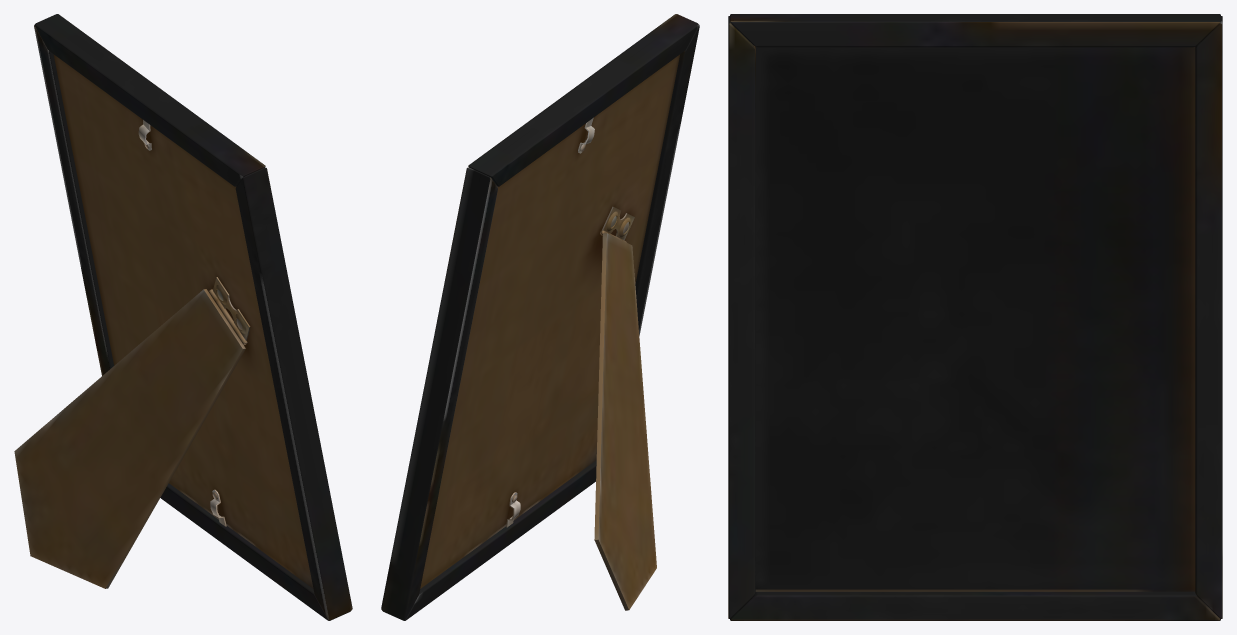
File: standing_picture_frame_01.glb
The picture shows the model from 3 angles, left to right: view 1: azimuth 30°, elevation 25°; view 2: azimuth 150°, elevation 25°; view 3: azimuth 270°, elevation 25°; orthographic projection. The views are drawn at different scales.
Visible parts, largest first — view 1: standing_picture_frame_01; view 2: standing_picture_frame_01; view 3: standing_picture_frame_01.
Boxes of the visible parts, x1,y1,x2,y2 form: standing_picture_frame_01: (14, 14, 352, 620); standing_picture_frame_01: (381, 14, 699, 620); standing_picture_frame_01: (728, 14, 1222, 620).
Bounding box in the file's own units: 0.1003 × 0.2497 × 0.2008.
Materials: 3 (3 with a texture image).
